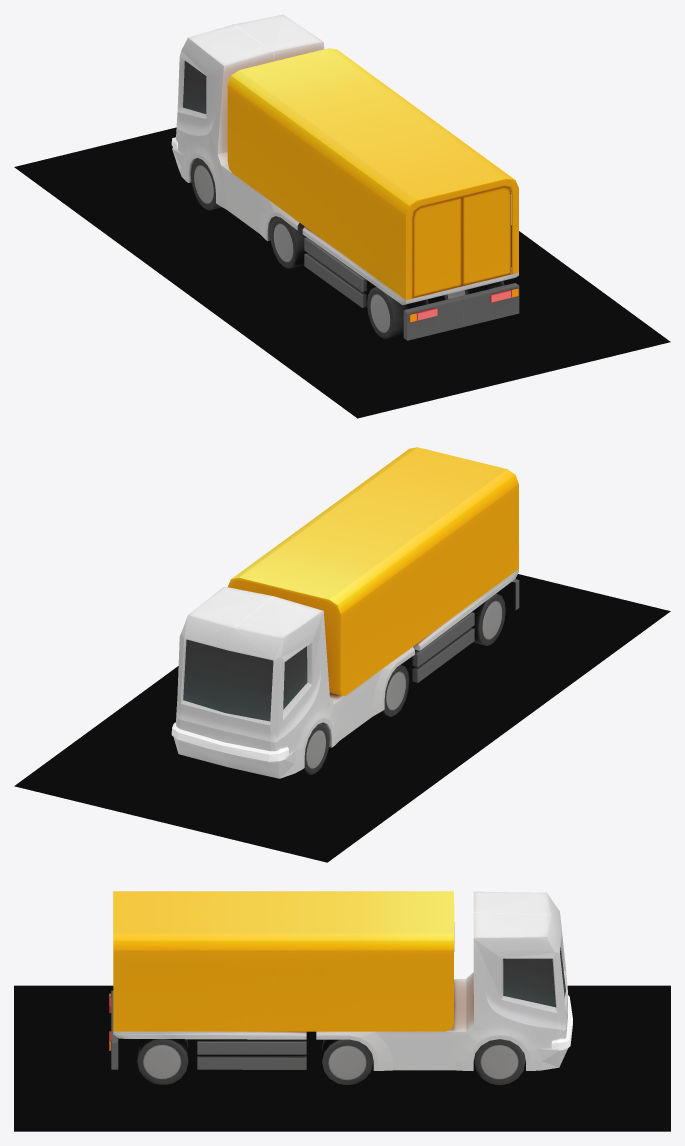
File: truck_large.glb
3 views of the same model, one above another, from view 1: azimuth 30°, elevation 25°; view 2: azimuth 150°, elevation 25°; view 3: azimuth 270°, elevation 25° (orthographic). The views are drawn at different scales.
Parts seen in each view (by area): view 1: Node; view 2: Node; view 3: Node.
Boxes of the visible parts, x1,y1,x2,y2 form: Node: [14, 14, 670, 418]; Node: [14, 447, 670, 862]; Node: [14, 891, 670, 1131].
Bounding box in the file's own units: 52.68 × 24.62 × 100.
1 material, 1 textured.
